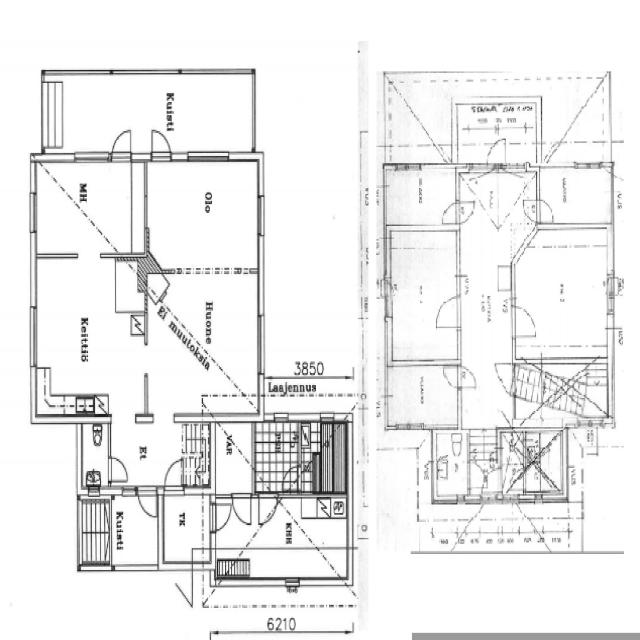door: (431, 291, 462, 332), (510, 301, 541, 341), (228, 488, 255, 528), (210, 493, 235, 532), (256, 491, 282, 528), (148, 126, 174, 162), (109, 126, 134, 163), (135, 483, 160, 519), (494, 359, 516, 396), (162, 458, 185, 492), (486, 137, 508, 171), (107, 452, 130, 484), (468, 460, 487, 494), (456, 363, 479, 391), (535, 196, 556, 224), (438, 199, 459, 226), (456, 198, 476, 226), (442, 362, 461, 389)
window: (180, 147, 234, 166), (254, 307, 268, 380), (26, 300, 40, 368), (26, 184, 39, 238), (70, 149, 110, 166), (112, 560, 159, 574), (254, 190, 266, 241), (464, 161, 492, 176), (503, 161, 530, 176), (436, 491, 462, 506), (283, 573, 301, 593)
zone: (33, 253, 145, 418), (146, 270, 260, 418), (144, 158, 262, 271), (512, 230, 611, 358), (211, 492, 348, 575), (31, 159, 145, 257), (386, 225, 460, 362), (571, 431, 639, 552), (458, 170, 538, 266), (516, 358, 612, 424), (387, 361, 461, 430), (538, 165, 613, 229), (386, 165, 456, 229), (501, 428, 566, 496), (160, 488, 213, 565), (254, 420, 302, 492), (213, 418, 254, 494), (433, 427, 469, 502), (78, 419, 110, 498)
